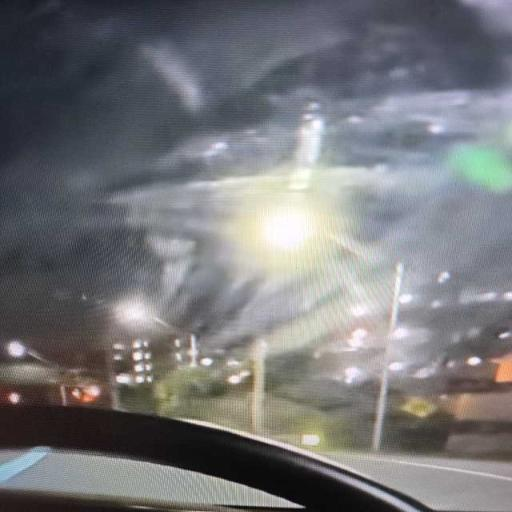car: (0, 0, 511, 511)
lane: (0, 451, 291, 506), (330, 454, 511, 511), (0, 447, 50, 483)
